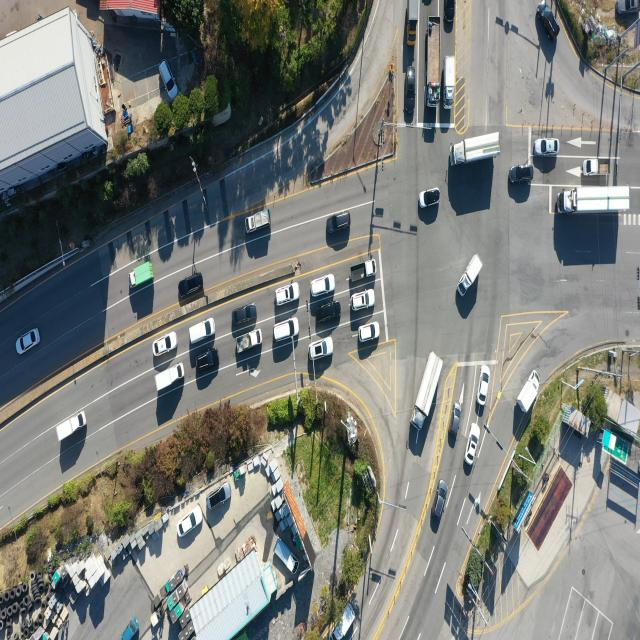car: (174, 504, 202, 539), (536, 0, 560, 39), (159, 60, 178, 100), (208, 483, 232, 512), (190, 321, 216, 347), (15, 329, 39, 356), (464, 424, 479, 466), (432, 480, 448, 519), (272, 318, 298, 342), (178, 274, 204, 298), (446, 402, 459, 448), (313, 338, 337, 362), (275, 282, 300, 305), (155, 333, 178, 358), (311, 274, 335, 297), (318, 300, 343, 322), (197, 350, 221, 372), (328, 212, 352, 234), (478, 366, 491, 406), (408, 68, 418, 119), (351, 291, 375, 312), (231, 302, 255, 323), (419, 186, 441, 208), (508, 163, 532, 183), (535, 138, 560, 156), (358, 321, 379, 342), (616, 0, 640, 16), (445, 0, 456, 32), (423, 0, 433, 7)
medium_truck: (412, 348, 443, 429), (557, 189, 629, 216), (453, 131, 504, 167), (426, 21, 440, 108)
small_truck: (456, 254, 482, 299), (56, 410, 87, 445), (520, 368, 543, 412), (329, 600, 353, 640), (156, 363, 184, 395), (274, 540, 298, 571), (129, 262, 154, 290), (236, 330, 262, 356), (444, 55, 457, 107), (244, 208, 269, 233), (349, 260, 376, 281), (584, 159, 612, 178), (407, 0, 418, 44), (122, 615, 141, 640)
